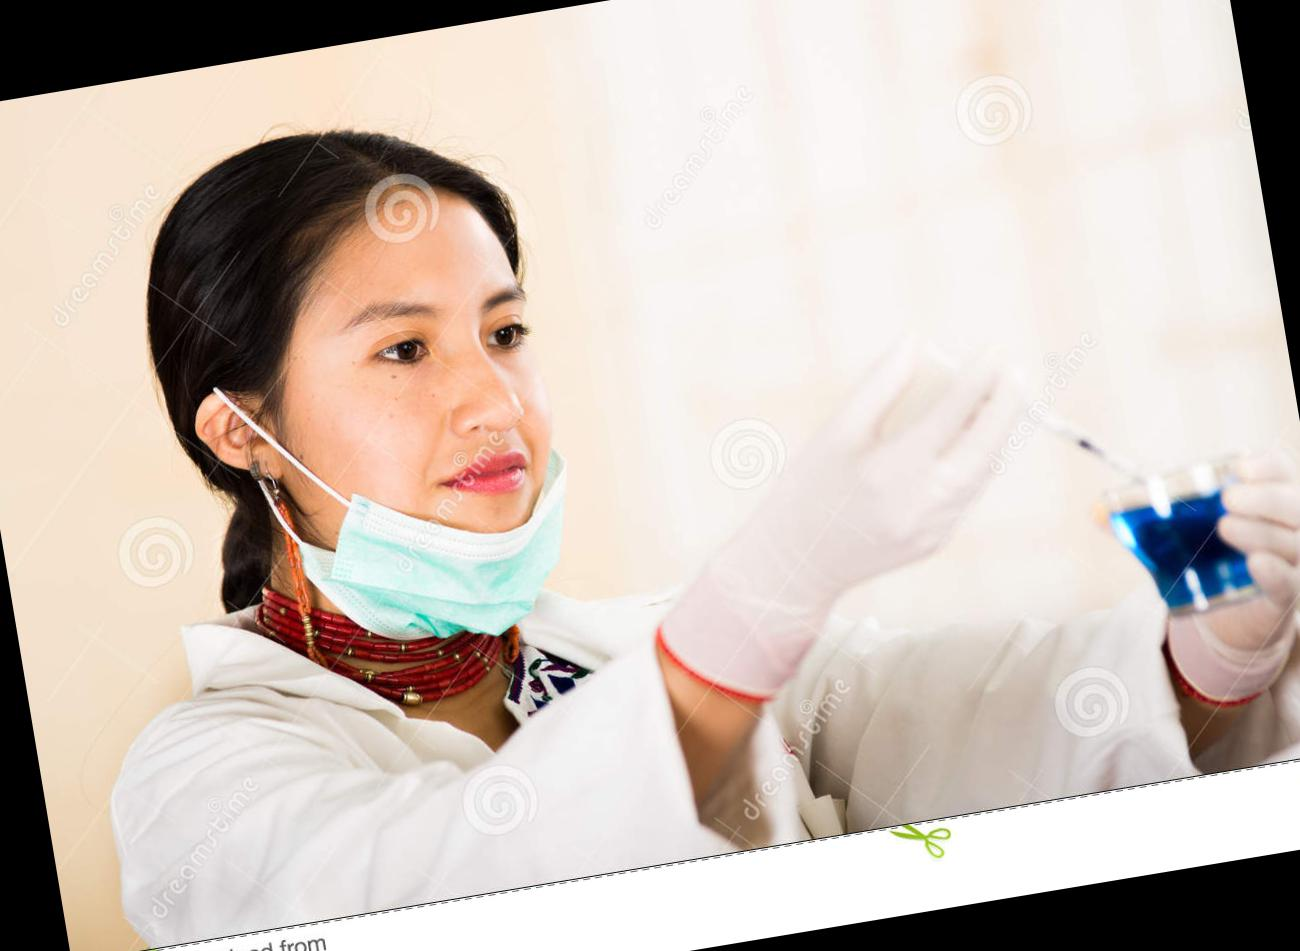mask_weared_incorrect: (316, 265, 594, 626)
